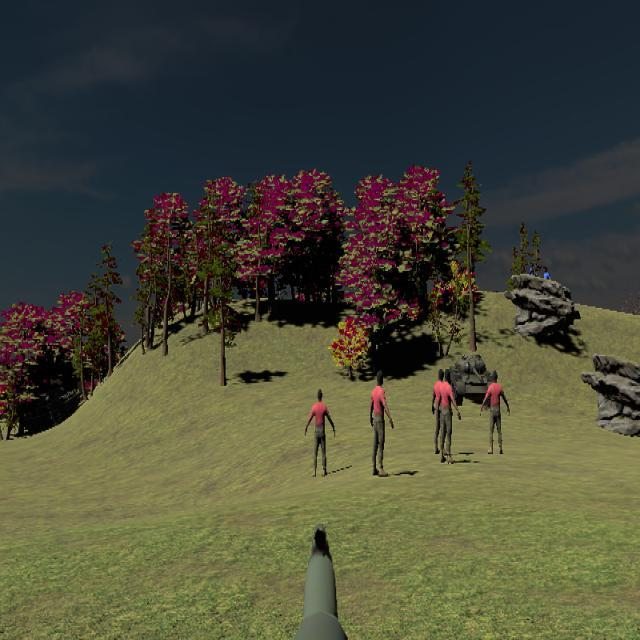Human: (304, 388, 336, 478), (369, 370, 395, 477), (480, 371, 510, 455), (436, 369, 461, 462), (437, 369, 461, 463), (432, 366, 449, 459)
Tank: (445, 352, 497, 405)
